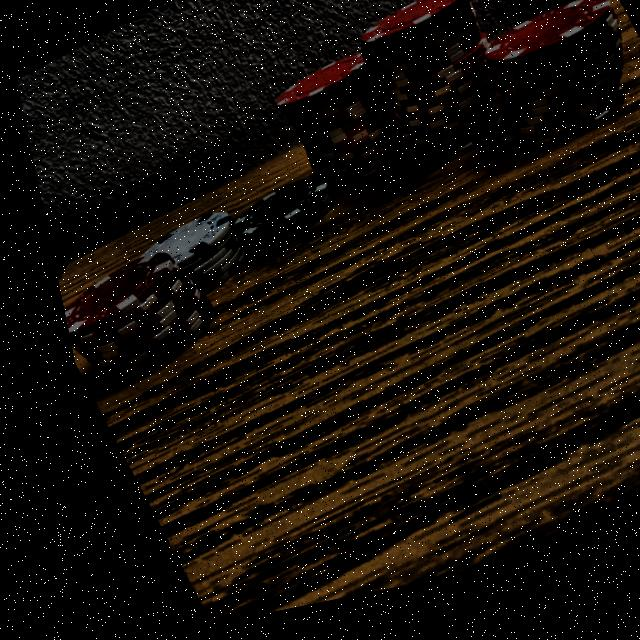Chip: (319, 0, 550, 217), (434, 0, 640, 202), (243, 35, 430, 234), (41, 225, 219, 417), (103, 197, 258, 330), (197, 160, 346, 276)
